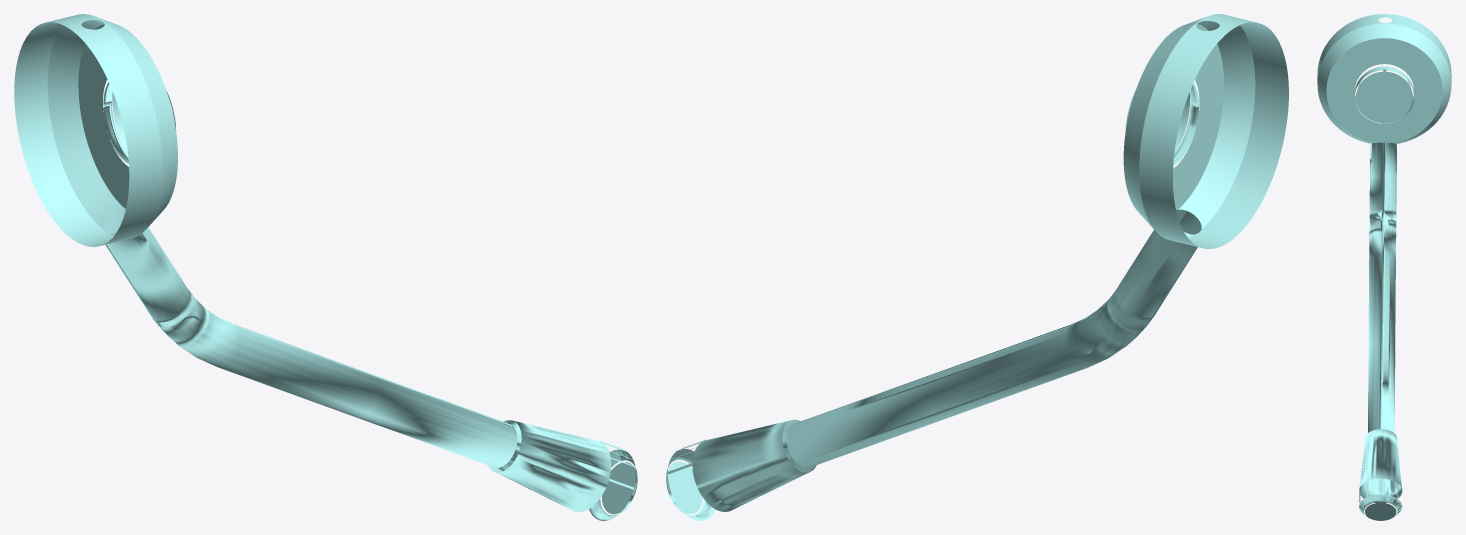
Rendered from QuillZMove.fbx.
The picture shows the model from 3 angles, left to right: view 1: azimuth 30°, elevation 25°; view 2: azimuth 150°, elevation 25°; view 3: azimuth 270°, elevation 25°; orthographic projection. The views are drawn at different scales.
Parts seen in each view (by area): view 1: Body1.304, Body1.303, Body2.121, Body1.302, Body1.305; view 2: Body1.304, Body1.303, Body2.121, Body1.302, Body1.305; view 3: Body1.304, Body1.303, Body2.121, Body1.301, Body3.050, Body2.120, Body1.302.
Part boxes in pixels (x1,y1,x2,y2): Body1.304: [14, 14, 177, 246]; Body1.303: [102, 209, 517, 467]; Body2.121: [487, 420, 637, 520]; Body1.302: [602, 462, 635, 514]; Body1.305: [103, 82, 128, 163]; Body1.304: [1123, 14, 1288, 248]; Body1.303: [786, 209, 1201, 467]; Body2.121: [666, 419, 816, 520]; Body1.302: [668, 461, 702, 513]; Body1.305: [1173, 83, 1198, 165]; Body1.304: [1317, 14, 1451, 143]; Body1.303: [1368, 142, 1396, 432]; Body2.121: [1359, 429, 1402, 520]; Body1.301: [1385, 71, 1412, 123]; Body3.050: [1356, 71, 1383, 123]; Body2.120: [1355, 66, 1413, 123]; Body1.302: [1365, 502, 1396, 520].
Bounding box in the file's own units: 17.73 × 18.66 × 6.35.
